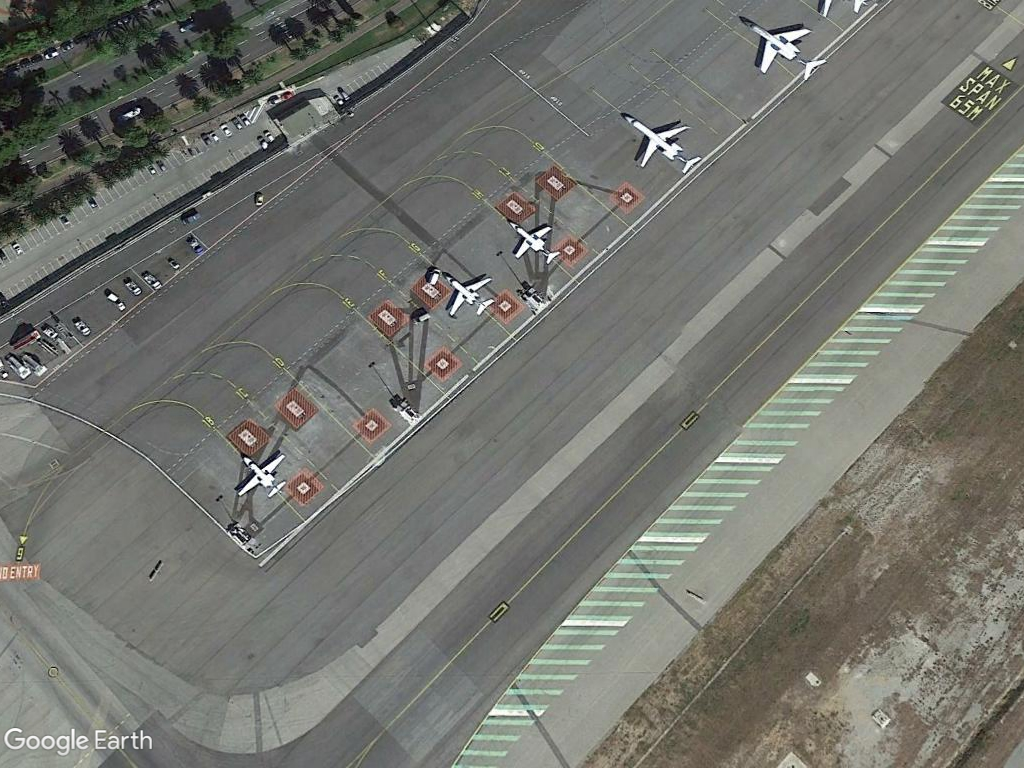chartered: (503, 216, 565, 268), (233, 450, 293, 501), (440, 268, 497, 319)
